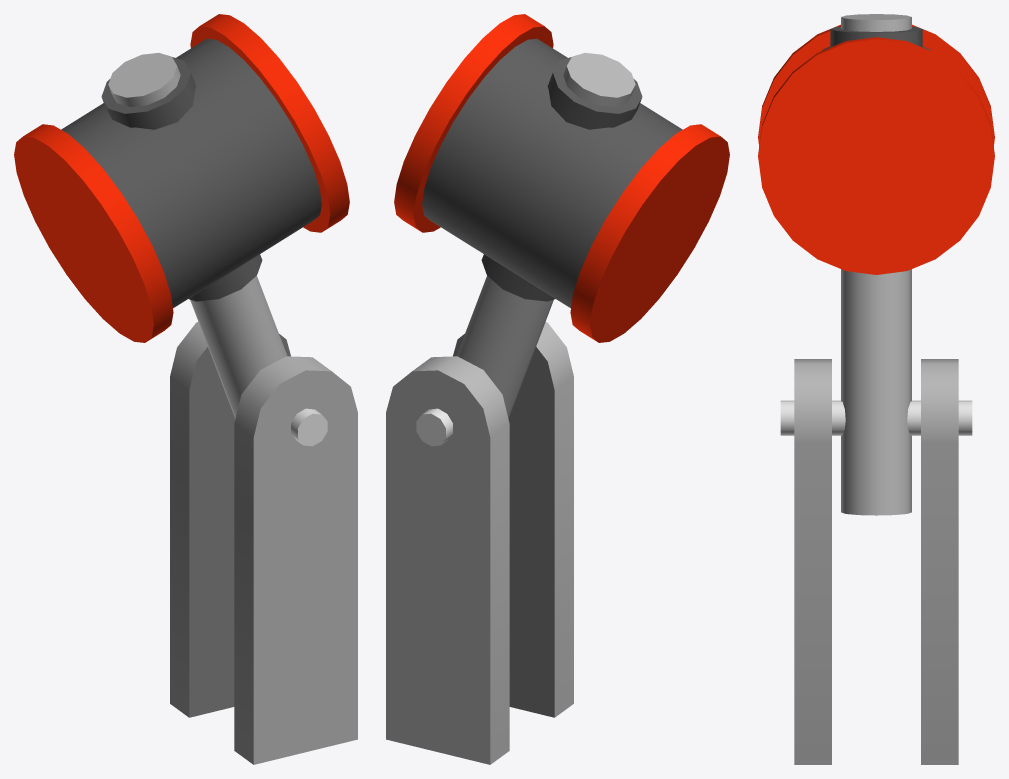
The model's file is HammerOneSideAnimation.glb.
The picture shows the model from 3 angles, left to right: view 1: azimuth 30°, elevation 25°; view 2: azimuth 150°, elevation 25°; view 3: azimuth 270°, elevation 25°; orthographic projection.
Visible parts, largest first — view 1: hammer, hammer handle; view 2: hammer, hammer handle; view 3: hammer, hammer handle.
Part boxes in pixels (box(x1,y1,x2,y2)): hammer: box(14, 14, 349, 418); hammer handle: box(170, 322, 357, 764); hammer: box(394, 14, 729, 418); hammer handle: box(386, 322, 573, 764); hammer: box(758, 14, 994, 515); hammer handle: box(780, 359, 972, 764).
Bounding box in the file's own units: 0.0262 × 0.0644 × 0.02.
